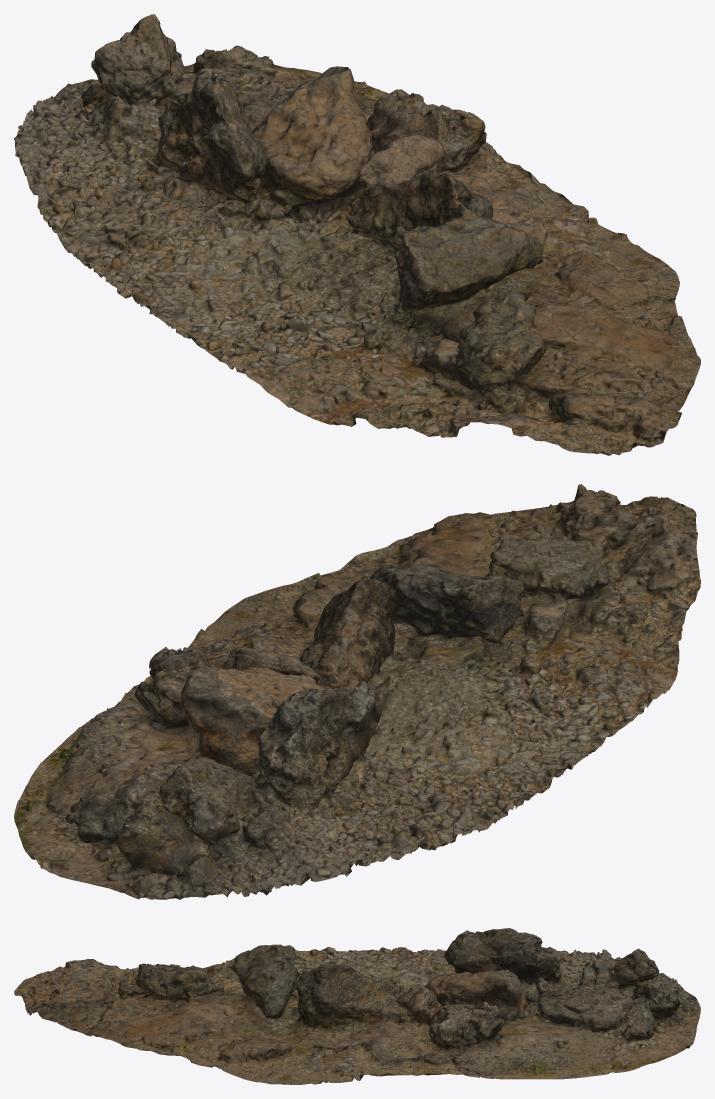
The model's file is near.gltf.
3 views of the same model, one above another, from view 1: azimuth 30°, elevation 25°; view 2: azimuth 150°, elevation 25°; view 3: azimuth 270°, elevation 25° (orthographic). The views are drawn at different scales.
Parts seen in each view (by area): view 1: coast_land_rocks_02; view 2: coast_land_rocks_02; view 3: coast_land_rocks_02.
Part boxes in pixels (x1,y1,x2,y2): coast_land_rocks_02: (14, 14, 700, 455); coast_land_rocks_02: (14, 484, 700, 899); coast_land_rocks_02: (14, 928, 700, 1084).
Size of the model in its own units: 4.89 by 1.39 by 10.45.
1 material, 1 textured.
